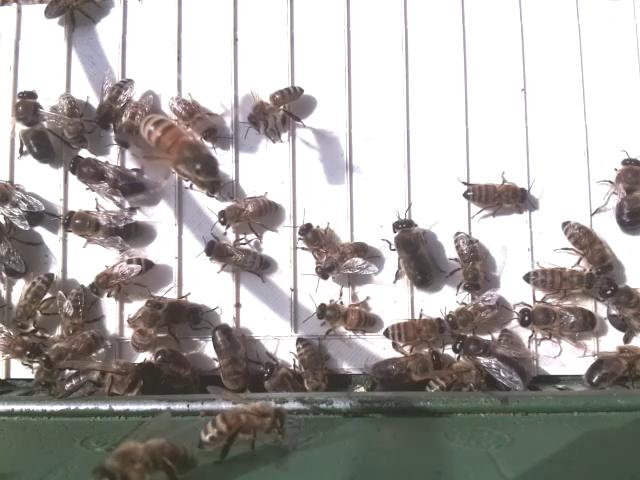Drone: (66, 153, 145, 202), (390, 213, 436, 291), (13, 87, 56, 166), (518, 302, 599, 343), (60, 208, 141, 247), (612, 152, 640, 236)
Worker: (559, 218, 620, 271), (202, 236, 273, 279), (86, 255, 157, 298), (246, 83, 304, 133), (444, 291, 509, 334), (10, 271, 56, 331), (168, 91, 219, 144), (91, 74, 137, 132), (520, 264, 595, 298), (312, 239, 370, 282), (310, 300, 379, 335), (214, 194, 278, 231), (452, 227, 485, 297), (461, 178, 528, 212), (380, 316, 445, 347)
